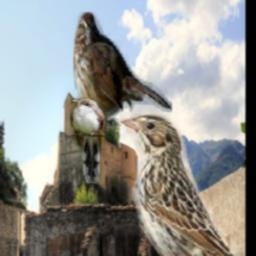Cuckoo: (70, 98, 106, 183)
Sparrow: (120, 112, 243, 256), (73, 13, 172, 131)
